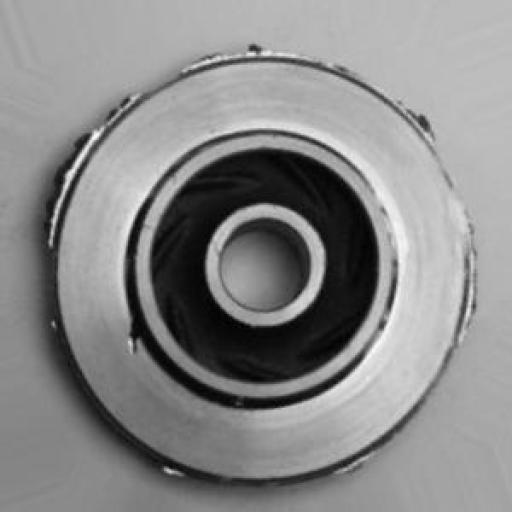defect: (27, 32, 495, 494)
